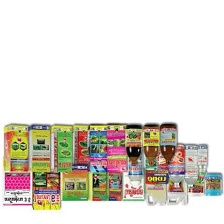insecticide: (30, 153, 63, 215), (2, 152, 34, 207), (57, 155, 90, 203), (1, 119, 30, 173), (102, 121, 131, 174), (47, 124, 78, 173), (26, 122, 53, 173), (68, 123, 93, 174), (122, 157, 146, 204), (88, 125, 110, 175), (142, 148, 170, 186), (86, 157, 109, 203), (157, 119, 179, 165), (166, 142, 186, 190), (143, 167, 167, 207), (123, 122, 144, 167), (165, 170, 189, 207), (104, 158, 123, 203), (181, 143, 199, 190), (142, 123, 158, 167), (126, 149, 144, 186), (185, 169, 207, 197), (202, 170, 224, 198), (143, 145, 161, 172), (196, 142, 209, 178)
